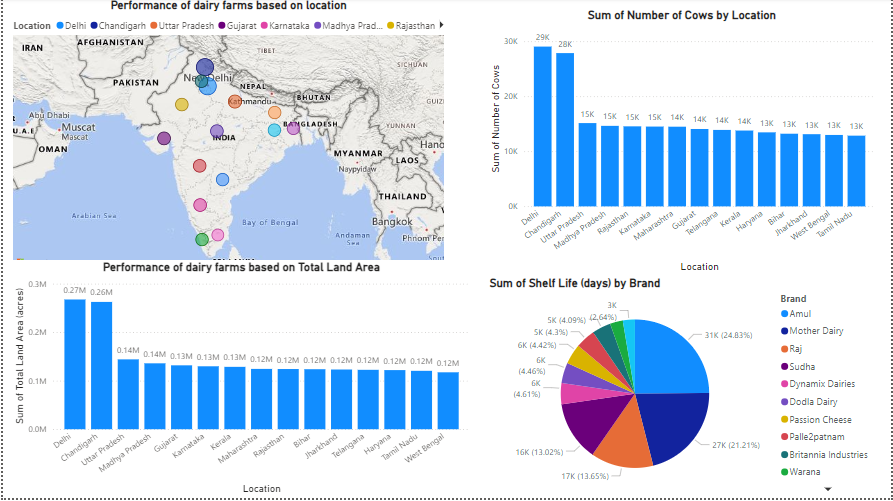

The page's visual inventory and layout, read from the dashboard file:
{"tool":"powerbi","page":{"name":"Page 1","canvas":[1280,720],"ordinal":0},"visuals":[{"type":"map","title":"Performance of dairy farms based on location","fields":{"Series":["dairy_dataset.Location"],"Size":["CountNonNull(dairy_dataset.Location)"],"Category":["dairy_dataset.Location"]},"box":[10.1,0,629.9,399.8],"z":0},{"type":"clusteredColumnChart","title":"Performance of dairy farms based on Total Land Area","fields":{"Category":["dairy_dataset.Location"],"Y":["Sum(dairy_dataset.Total Land Area (acres))"]},"box":[10.1,378,666.9,342.7],"z":1000},{"type":"columnChart","fields":{"Category":["dairy_dataset.Location"],"Y":["Sum(dairy_dataset.Number of Cows)"]},"box":[695.4,15.1,564.4,384.7],"z":2000},{"type":"pieChart","fields":{"Y":["Sum(dairy_dataset.Shelf Life (days))"],"Category":["dairy_dataset.Brand"]},"box":[695,400,564,320],"z":3000}]}

Visuals, with their boxes in screenshot pixels (x1, y1, x2, y2), scaled from the page's 1280x720 canvas onto the 893x501 screenshot:
"Performance of dairy farms based on location" map: 7/0/446/278
"Performance of dairy farms based on Total Land Area" clusteredColumnChart: 7/263/472/500
columnChart - dairy_dataset.Location x Sum(dairy_dataset.Number of Cows): 485/11/879/278
pieChart - Sum(dairy_dataset.Shelf Life (days)) x dairy_dataset.Brand: 485/278/878/500
